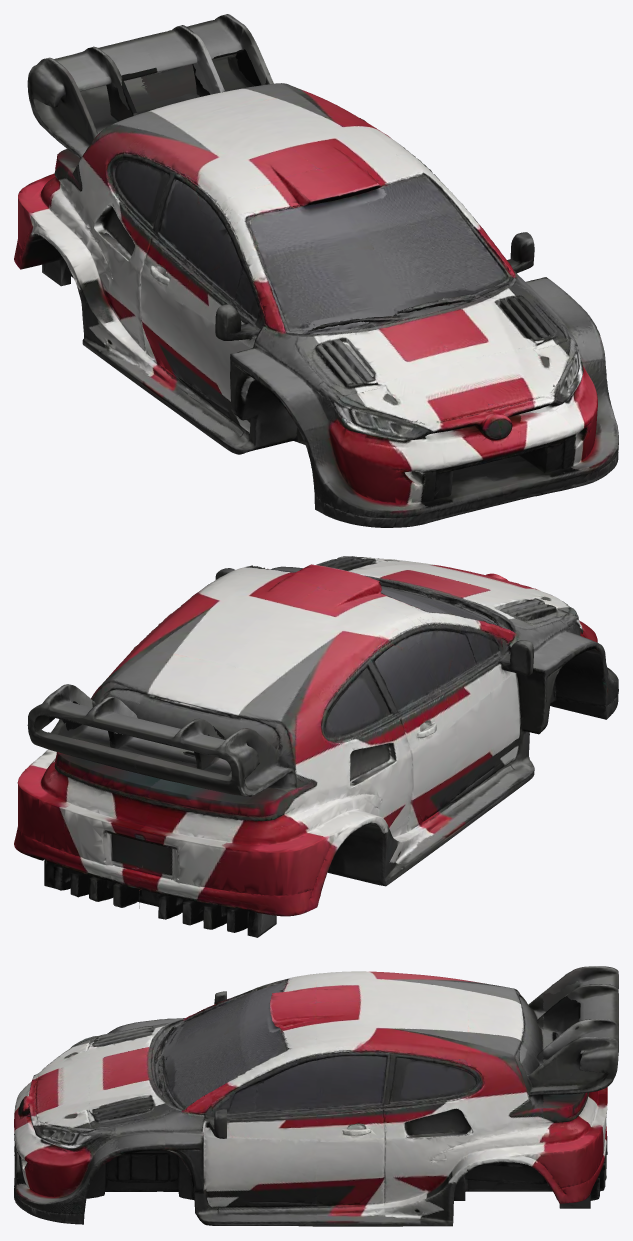
The model's file is car_vanguard_gt_opt.glb.
The picture shows the model from 3 angles, top to bottom: view 1: azimuth 30°, elevation 25°; view 2: azimuth 150°, elevation 25°; view 3: azimuth 270°, elevation 25°; orthographic projection. The views are drawn at different scales.
Parts seen in each view (by area): view 1: tmpj49e6hrgobj; view 2: tmpj49e6hrgobj; view 3: tmpj49e6hrgobj.
Part boxes in pixels (x1,y1,x2,y2): tmpj49e6hrgobj: (14, 14, 618, 527); tmpj49e6hrgobj: (14, 556, 618, 937); tmpj49e6hrgobj: (14, 966, 618, 1226).
Size of the model in its own units: 0.4925 by 0.3012 by 1.
1 material, 1 textured.
